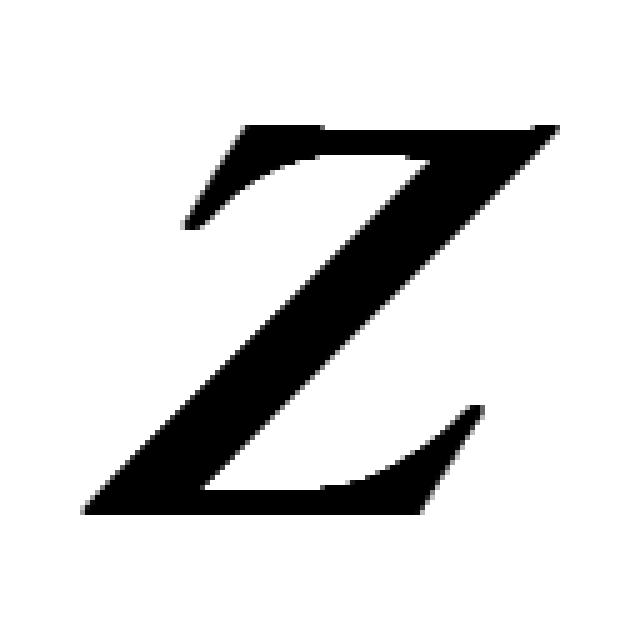Z: (75, 115, 560, 520)
